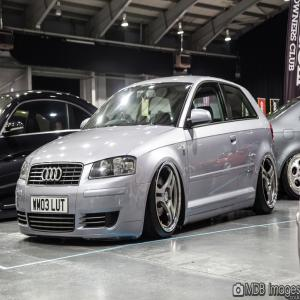Vehicle-registration-plate: (31, 196, 69, 211)
